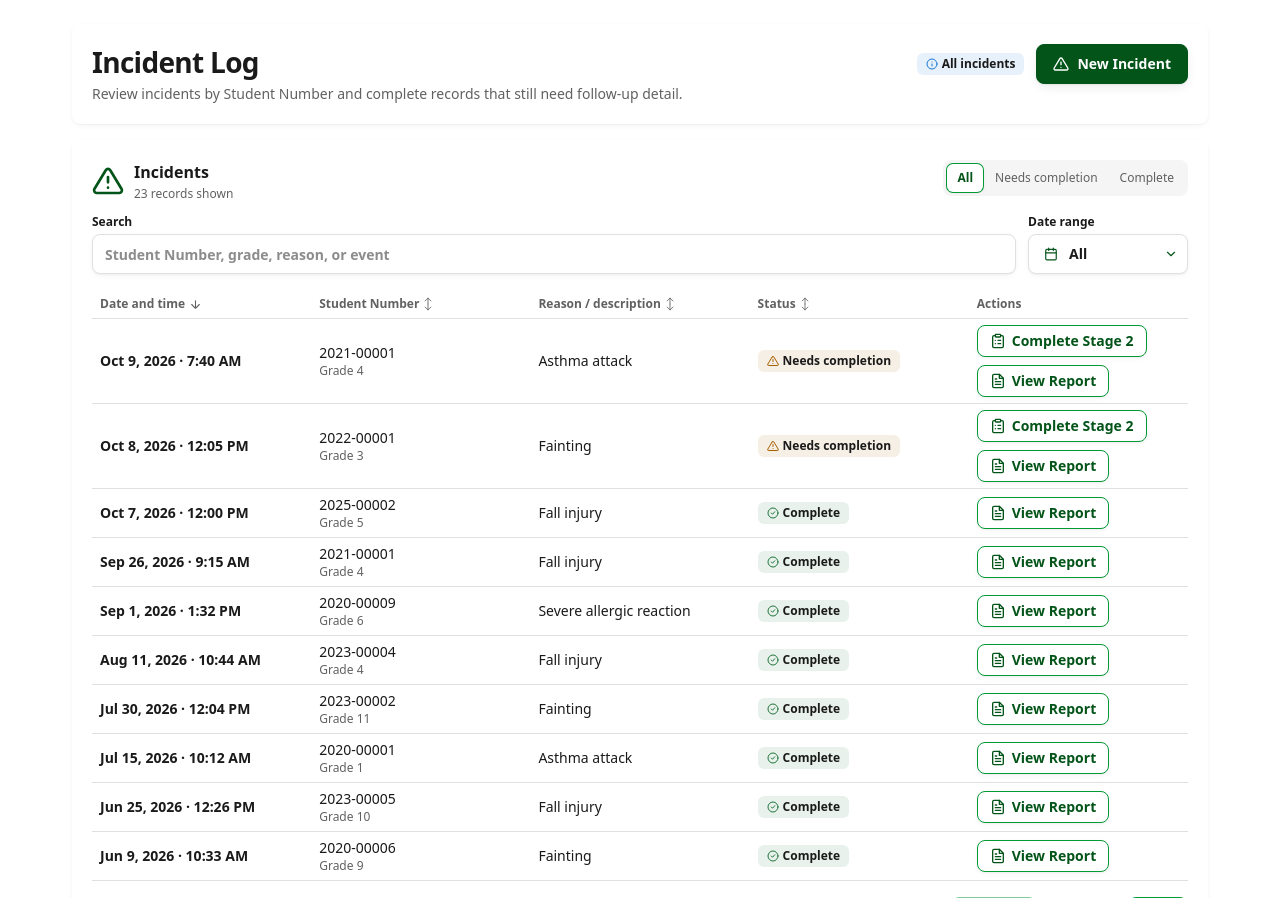
Test: Incident Log › searches incidents by actual Student Number
Expected: the heading "Incident Log" is shown, 92,43 -> 259,81
Type "2021-00001" into the field labelled "Search" at (554, 254), box 92,234 -> 1016,274
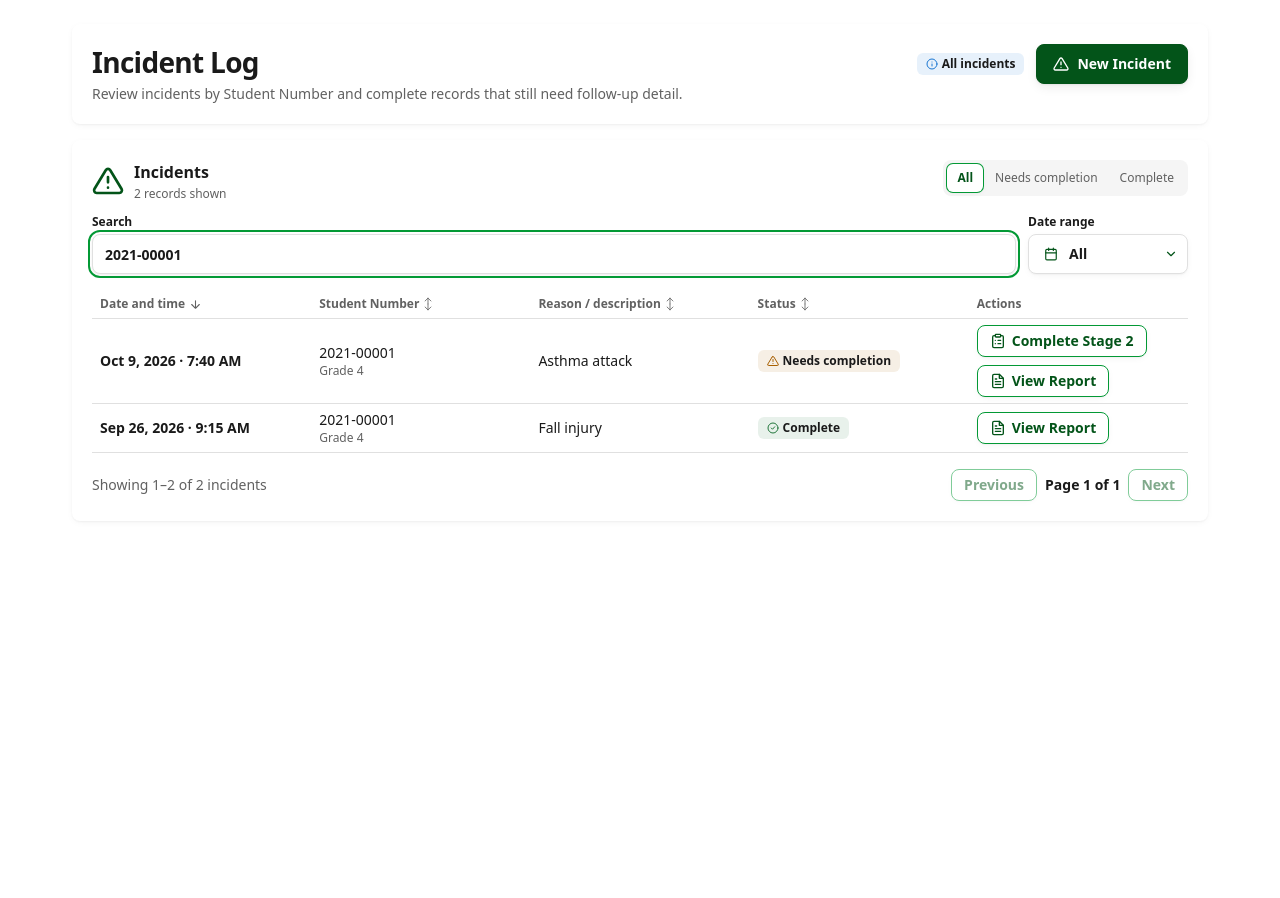
Result: the text "2021-00001" is shown 2 times at 319,343 -> 396,362; 319,410 -> 396,429
